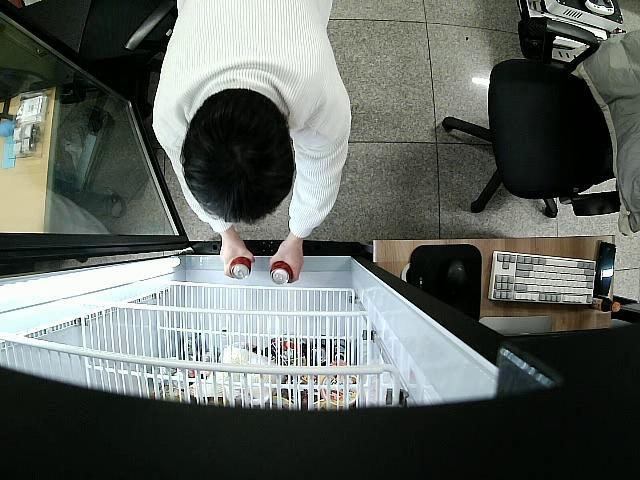11_cocaColaZero: (270, 262, 294, 284), (231, 258, 252, 279)
